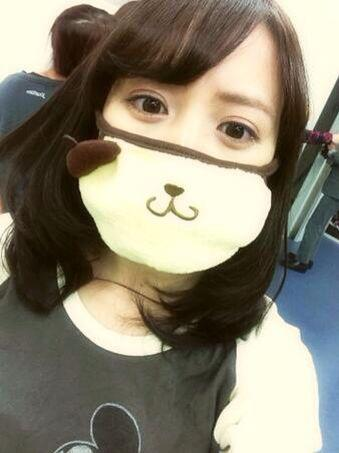OK: (80, 52, 296, 268)
